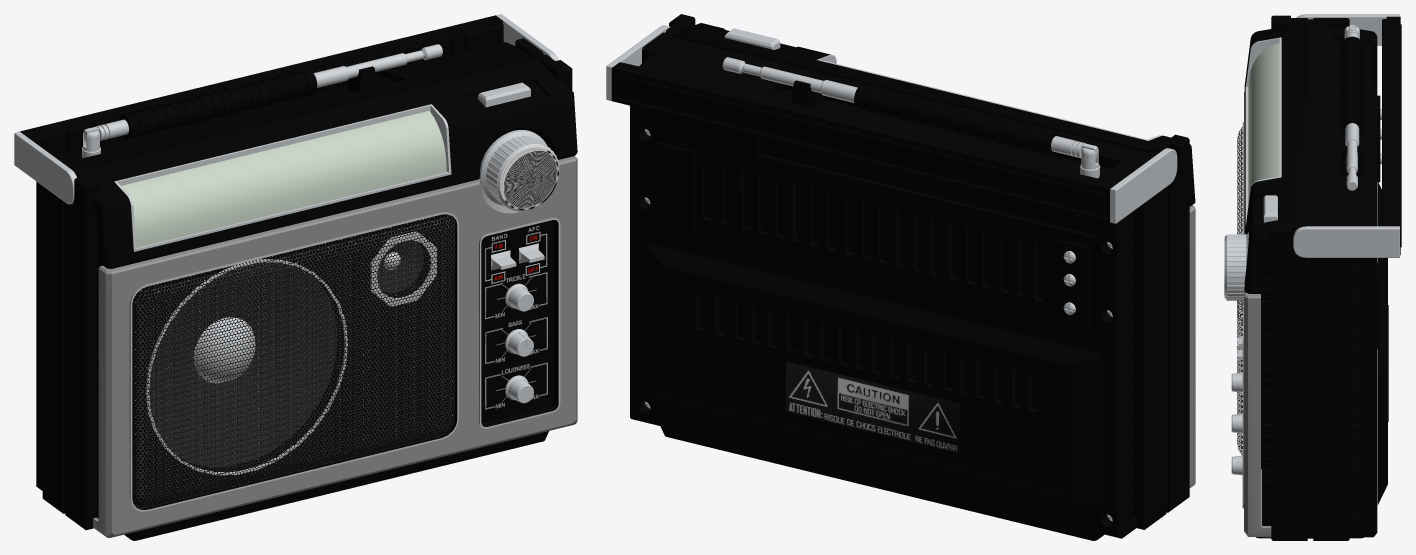
Rendered from radio.FBX.
3 views of the same model, side by side, from view 1: azimuth 30°, elevation 25°; view 2: azimuth 150°, elevation 25°; view 3: azimuth 270°, elevation 25° (orthographic). The views are drawn at different scales.
Visible parts, largest first — view 1: Radio Main, speaker grill, handel, Aerial, Tuning knob, Power button, Aerial2; view 2: Radio Main, handel, Aerial, Aerial2; view 3: Radio Main, handel, Aerial, Tuning knob, speaker grill, Power button, Aerial2, Bass, Loudness, Treble.
Part boxes in pixels (left/top/right/bottom): Radio Main: left=36, top=38, right=577, bottom=540; speaker grill: left=132, top=214, right=454, bottom=508; handel: left=14, top=14, right=558, bottom=204; Aerial: left=84, top=66, right=349, bottom=141; Tuning knob: left=479, top=130, right=559, bottom=211; Power button: left=478, top=82, right=530, bottom=107; Aerial2: left=346, top=53, right=407, bottom=78; Radio Main: left=630, top=14, right=1195, bottom=540; handel: left=606, top=25, right=1177, bottom=223; Aerial: left=820, top=80, right=1097, bottom=158; Aerial2: left=759, top=66, right=823, bottom=92; Radio Main: left=1242, top=15, right=1388, bottom=540; handel: left=1293, top=14, right=1401, bottom=257; Aerial: left=1340, top=24, right=1363, bottom=145; Tuning knob: left=1224, top=232, right=1248, bottom=300; speaker grill: left=1237, top=127, right=1242, bottom=455; Power button: left=1263, top=195, right=1277, bottom=222; Aerial2: left=1346, top=139, right=1357, bottom=172; Bass: left=1231, top=413, right=1242, bottom=433; Loudness: left=1231, top=455, right=1242, bottom=475; Treble: left=1231, top=373, right=1242, bottom=392.
Bounding box in the file's own units: 315 × 110 × 232.
Materials: 10 (5 with a texture image).
